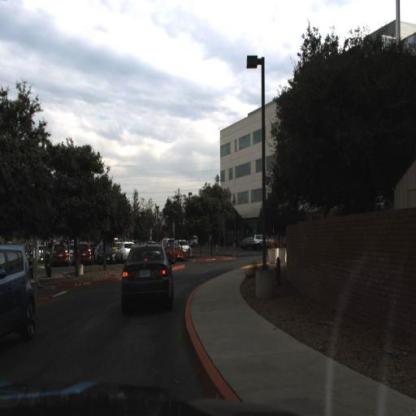car: (118, 237, 177, 318), (1, 243, 39, 352), (49, 240, 74, 270), (91, 240, 118, 267), (159, 242, 186, 268), (95, 241, 118, 271), (248, 230, 278, 252), (73, 240, 95, 267), (254, 233, 280, 254), (115, 240, 136, 265), (167, 241, 187, 265), (120, 241, 134, 268), (188, 234, 200, 250)
